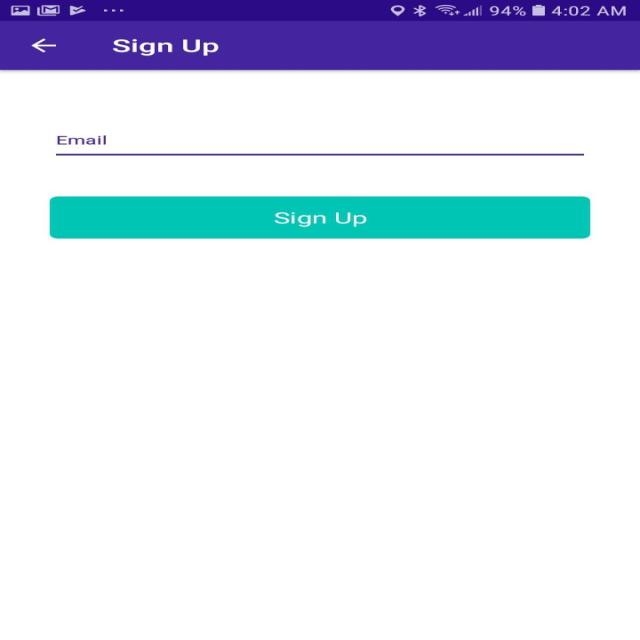Icon: (30, 38, 57, 53)
Text: (55, 135, 583, 156), (112, 38, 218, 56)
TextButton: (48, 196, 590, 238)
